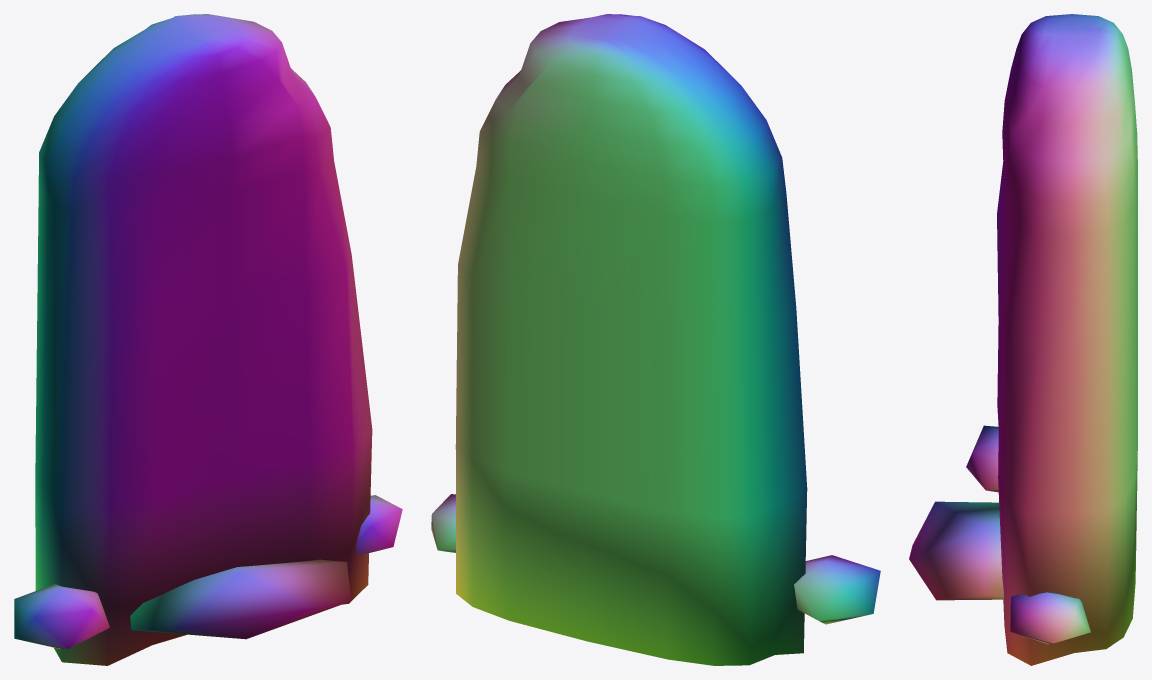
File: SM_Prop_March_CatechismStone.fbx
3 renders of one model, left to right at view 1: azimuth 30°, elevation 25°; view 2: azimuth 150°, elevation 25°; view 3: azimuth 270°, elevation 25°, orthographic. The views are drawn at different scales.
Parts seen in each view (by area): view 1: SM_Prop_March_CatechismStone; view 2: SM_Prop_March_CatechismStone; view 3: SM_Prop_March_CatechismStone.
Part boxes in pixels (box(x1,y1,x2,y2)): SM_Prop_March_CatechismStone: box(14, 14, 402, 665); SM_Prop_March_CatechismStone: box(431, 14, 880, 665); SM_Prop_March_CatechismStone: box(909, 14, 1137, 665).
Size of the model in its own units: 0.7302 by 1 by 0.3681.
